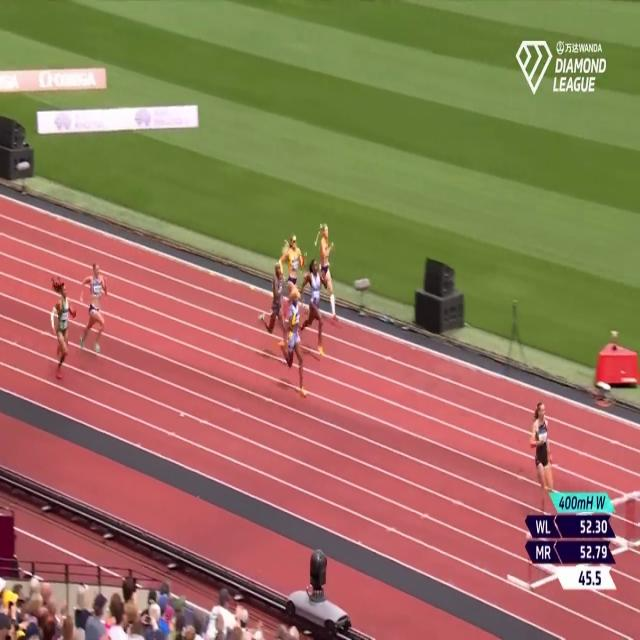athlete: (526, 392, 558, 528), (44, 271, 80, 388), (279, 288, 310, 404), (80, 253, 108, 360), (280, 227, 309, 327), (316, 221, 343, 328), (302, 251, 328, 361), (259, 262, 283, 350)
